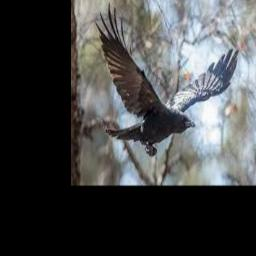Crow: (95, 2, 239, 157)
